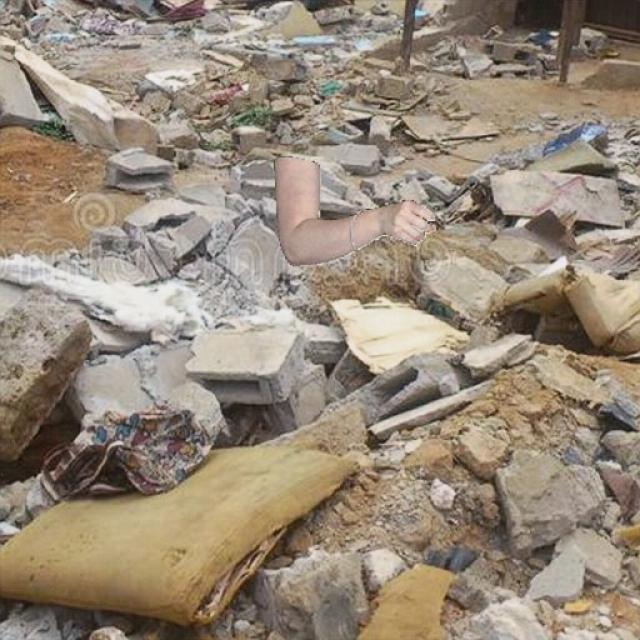Person in Rubble: (274, 156, 435, 265)
